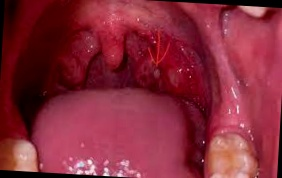Ulcer: (152, 64, 186, 89)
